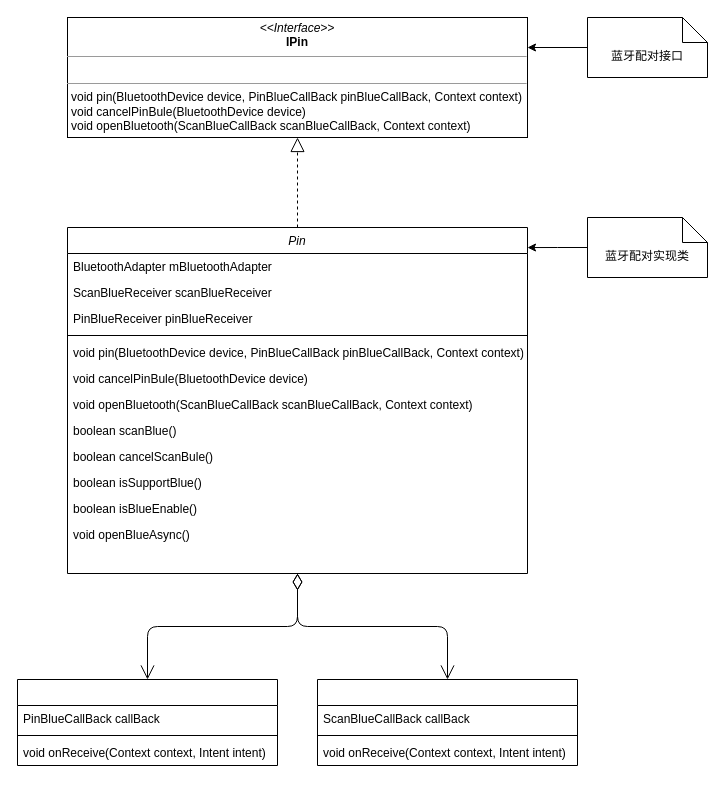
Image size: 725x786. Some labels were removed from this diagram. Each missing label, with the box of its shape:
PinBlueReceiver: (16, 678, 278, 766)
ScanBlueReceiver: (316, 678, 578, 766)
